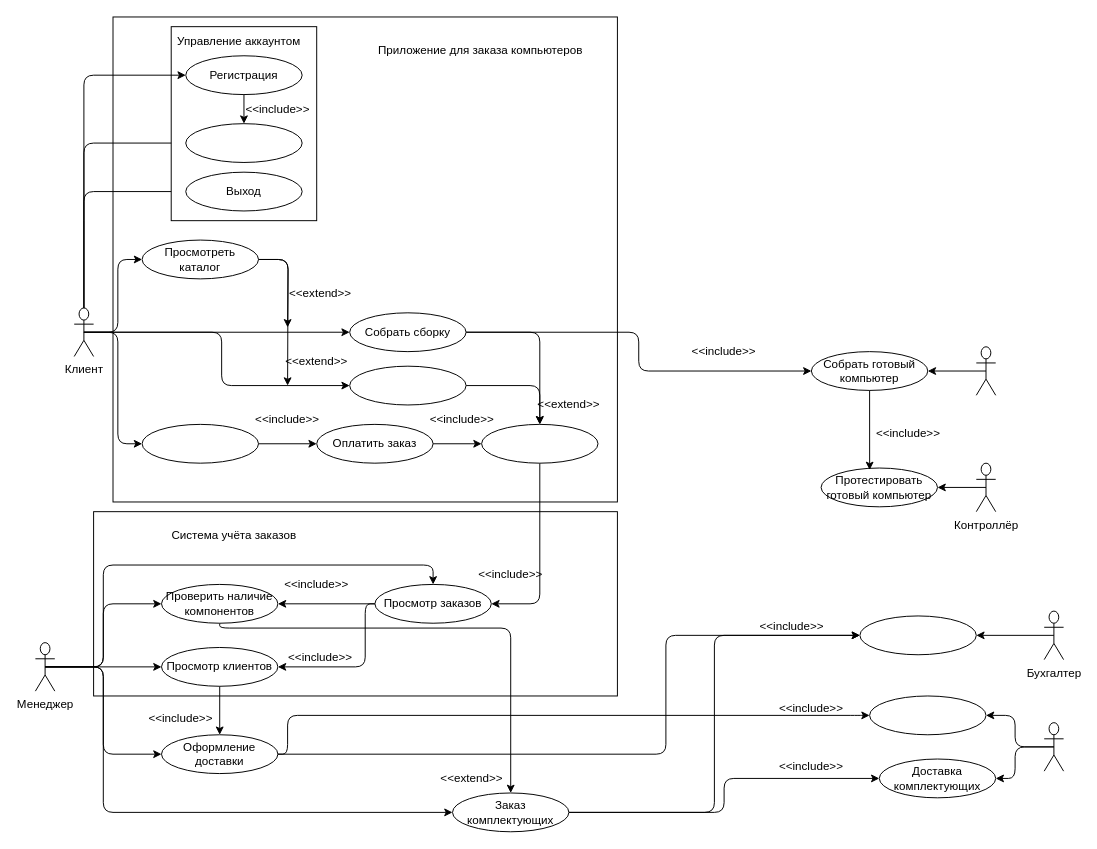
This 1097x849 diagram has some shape labels left out. Here are the shapes that lost their labels. From the top down, the box of each, then its label:
(185, 123, 302, 162): Авторизация
(349, 365, 466, 405): Выбрать готовую сборку
(975, 346, 996, 395): Сборщик
(141, 423, 259, 463): Получить заказ
(481, 423, 598, 463): Оформить заказ
(859, 615, 976, 655): Формирование финансовых отчётов
(869, 695, 986, 735): Доставка заказов
(1043, 722, 1064, 771): Курьер
